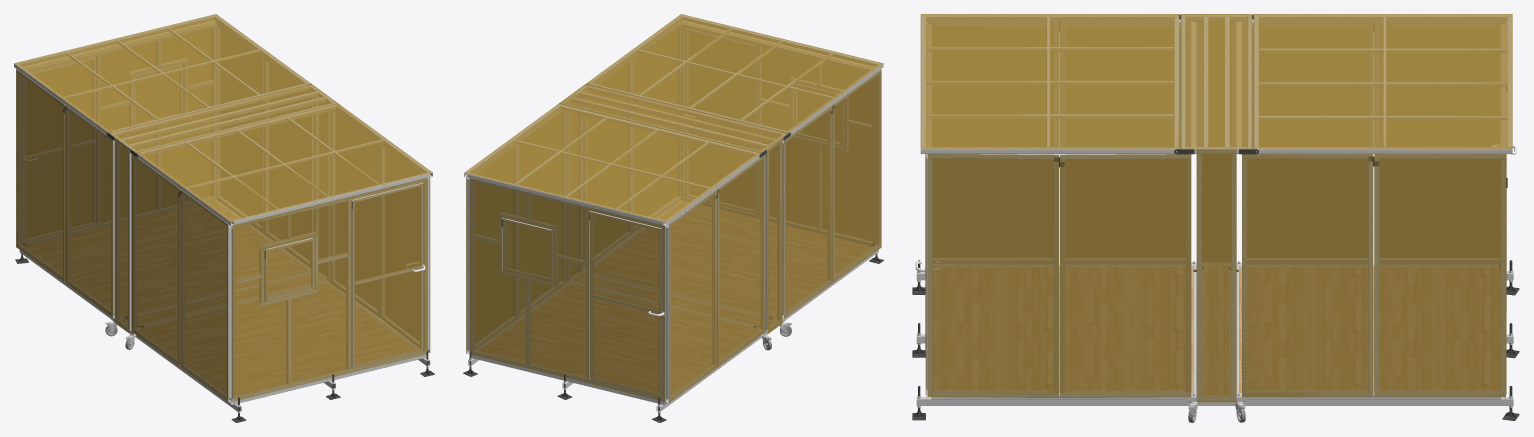
File: REFUGIO_PORTATIL.glb
3 renders of one model, left to right at view 1: azimuth 30°, elevation 25°; view 2: azimuth 150°, elevation 25°; view 3: azimuth 270°, elevation 25°, orthographic. The views are drawn at different scales.
Visible parts, largest first — view 1: REFUGIO_PORTATIL; view 2: REFUGIO_PORTATIL; view 3: REFUGIO_PORTATIL.
Part boxes in pixels (bbox=[...]): REFUGIO_PORTATIL: bbox=[14, 14, 434, 422]; REFUGIO_PORTATIL: bbox=[463, 14, 883, 422]; REFUGIO_PORTATIL: bbox=[912, 14, 1519, 422].
Size of the model in its own units: 2.57 by 2.26 by 4.57.
9 materials, 2 textured.
